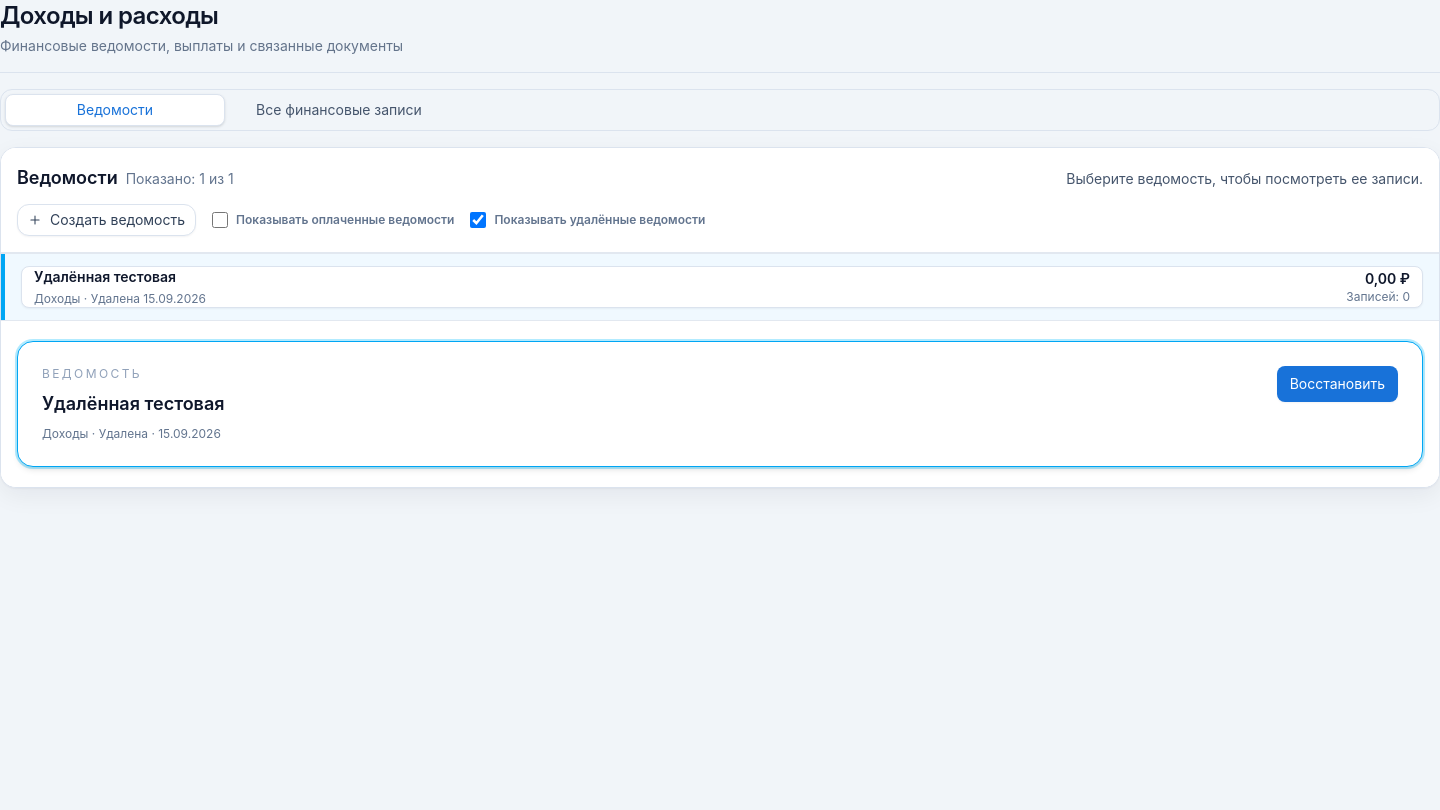
Scenario: deleted statements › keeps name errors in the dialog and refreshes records after successful recovery
This screenshot has width=1440, height=810.
Click the button "Восстановить". click: click(1337, 384)
box: [1277, 366, 1398, 402]
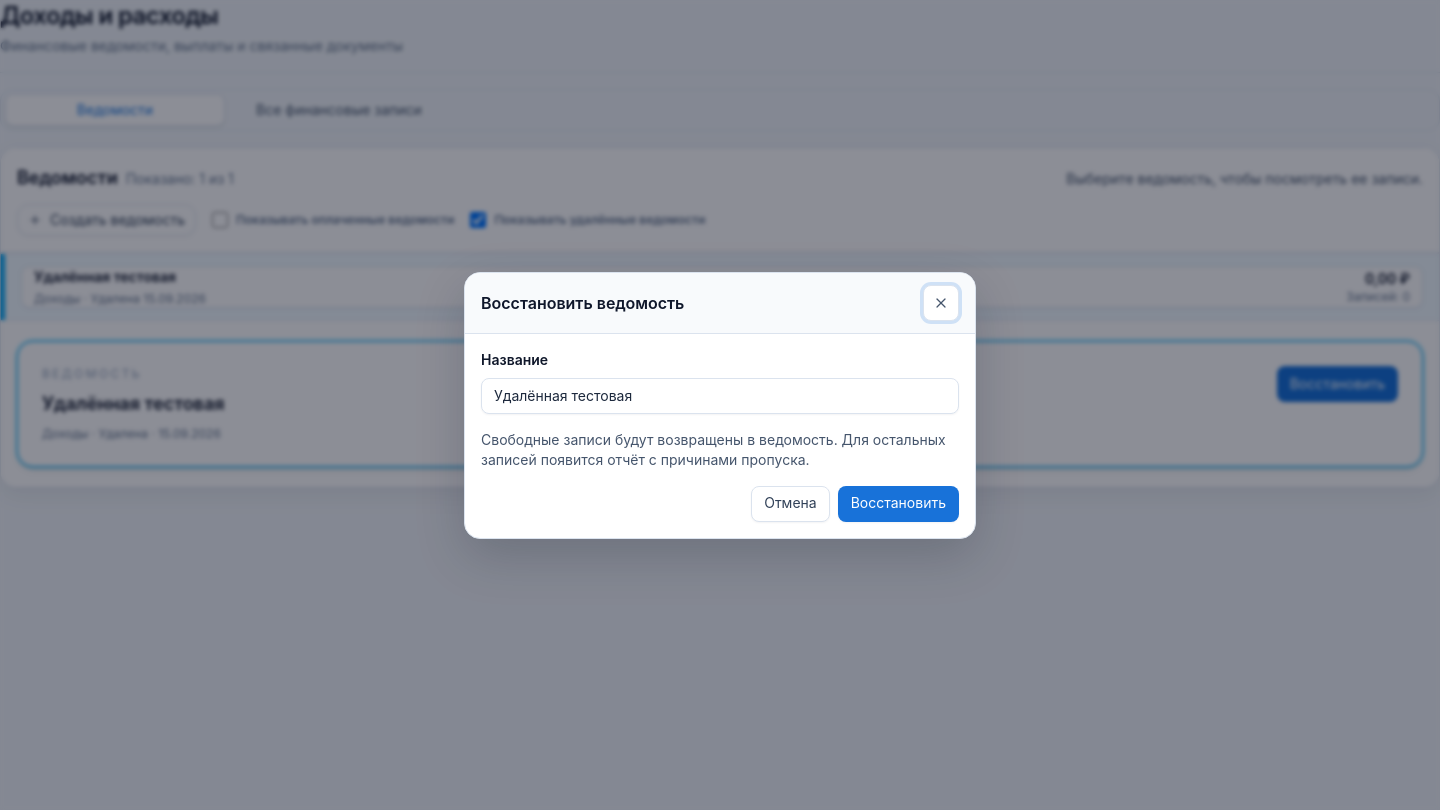
Click the button "Восстановить". click: click(898, 504)
box: [838, 486, 959, 522]
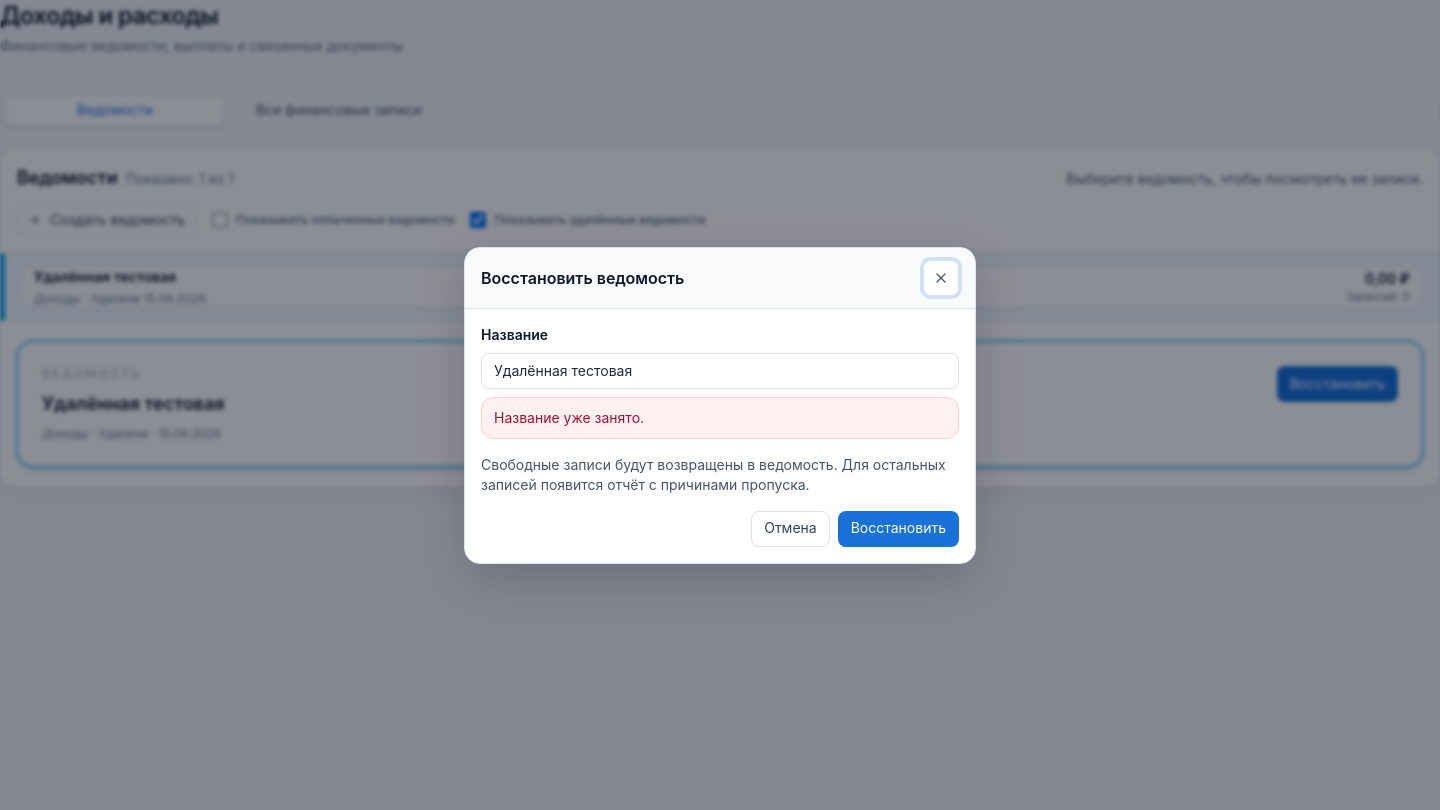
Result: the message reads "Название уже занято." at [494, 408, 644, 426]
Replace the text in the field labelled "Название" with "Новое название". click: (720, 370)
box: [481, 352, 959, 388]
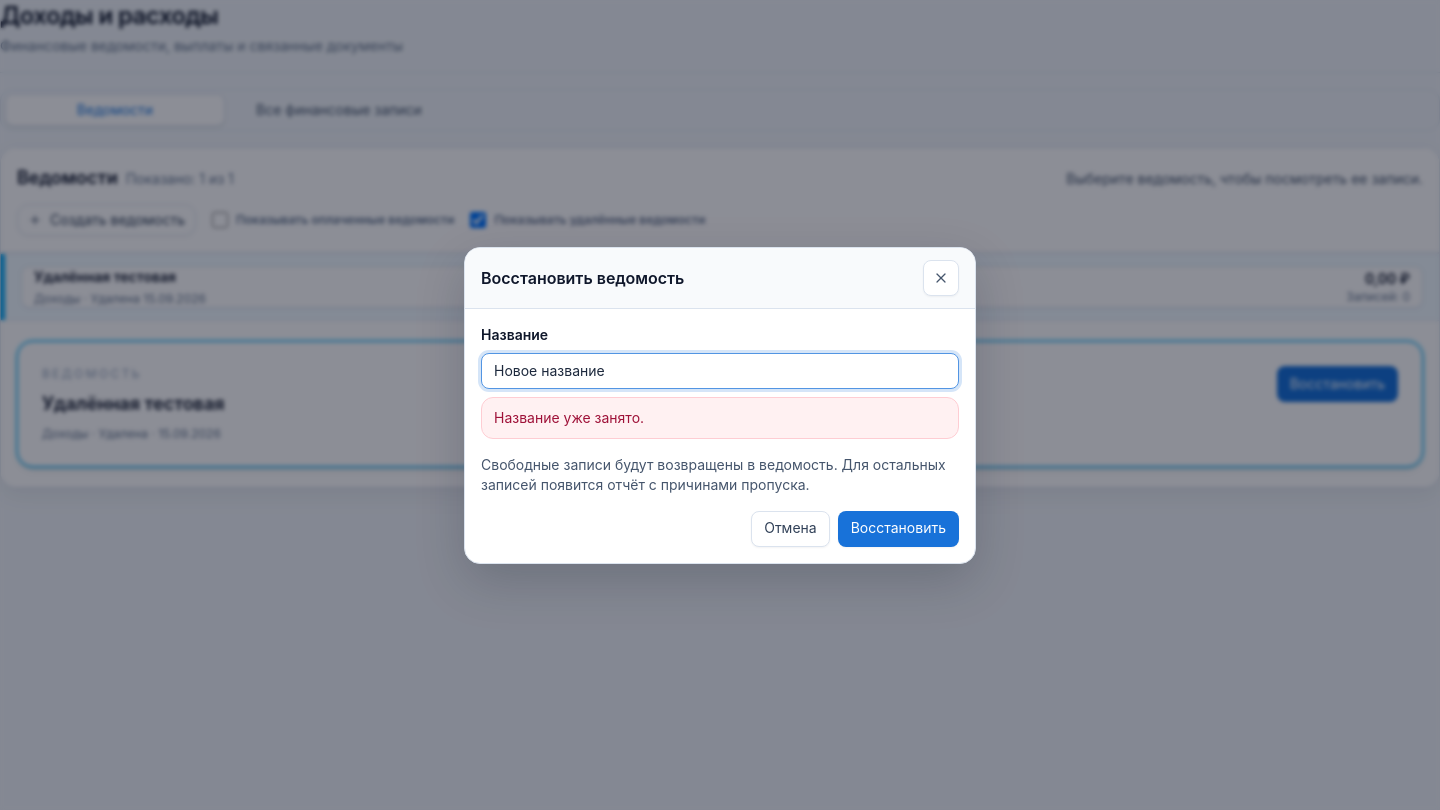
Click the button "Восстановить". click: click(898, 528)
box: [838, 510, 959, 546]
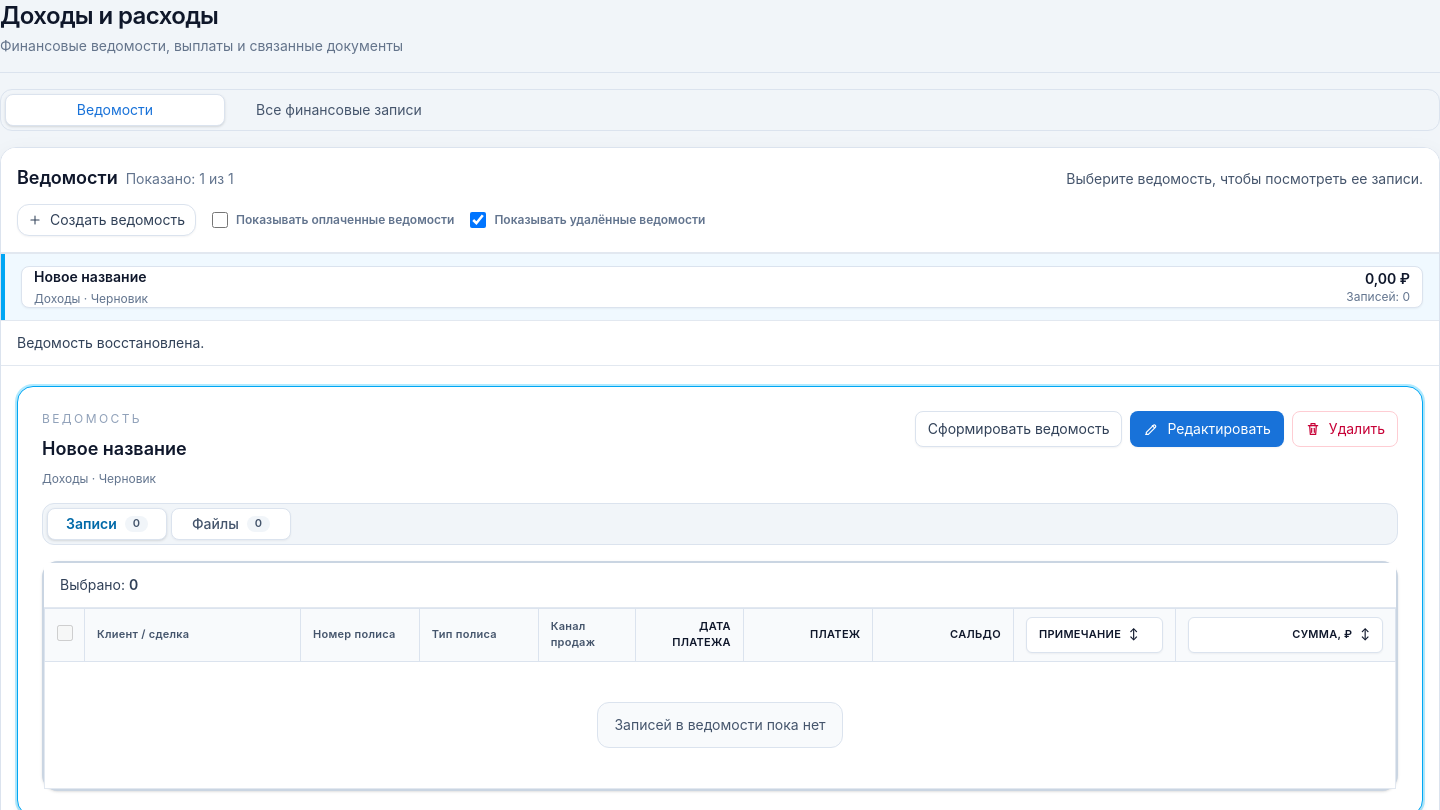
Result: the dialog is gone
Result: the button "Редактировать" is shown at [1130, 411, 1284, 447]
